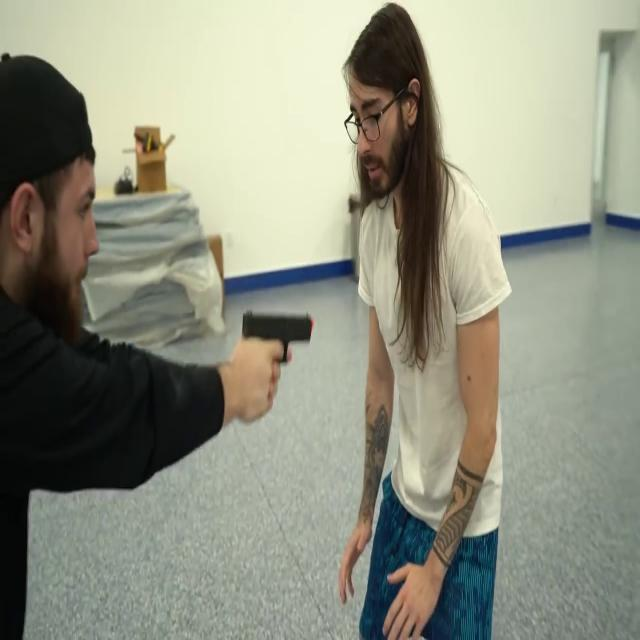Handgun: (238, 294, 321, 420)
